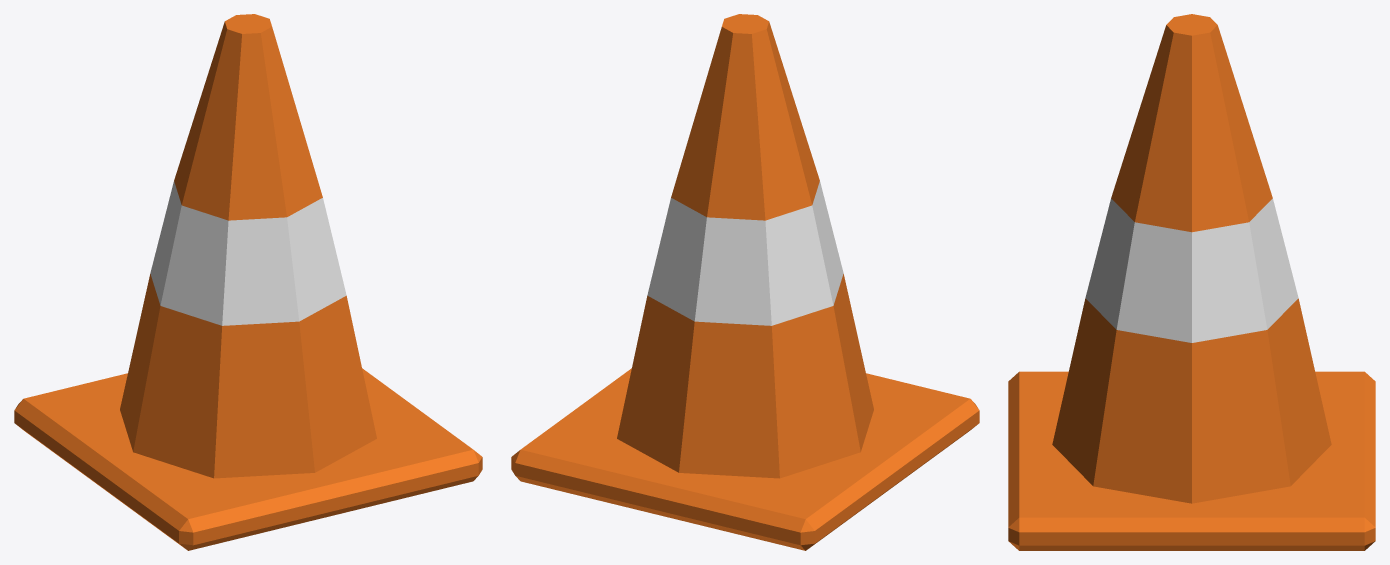
Rendered from Traffic_Cone.glb.
The picture shows the model from 3 angles, left to right: view 1: azimuth 30°, elevation 25°; view 2: azimuth 150°, elevation 25°; view 3: azimuth 270°, elevation 25°; orthographic projection. The views are drawn at different scales.
Parts seen in each view (by area): view 1: Traffic_Cone_Mesh; view 2: Traffic_Cone_Mesh; view 3: Traffic_Cone_Mesh.
Part boxes in pixels (x1=…): Traffic_Cone_Mesh: x1=14, y1=14, x2=482, y2=550; Traffic_Cone_Mesh: x1=511, y1=14, x2=979, y2=550; Traffic_Cone_Mesh: x1=1008, y1=14, x2=1375, y2=550.
Size of the model in its own units: 0.5 by 0.68 by 0.5.
Materials: 1 (1 with a texture image).
